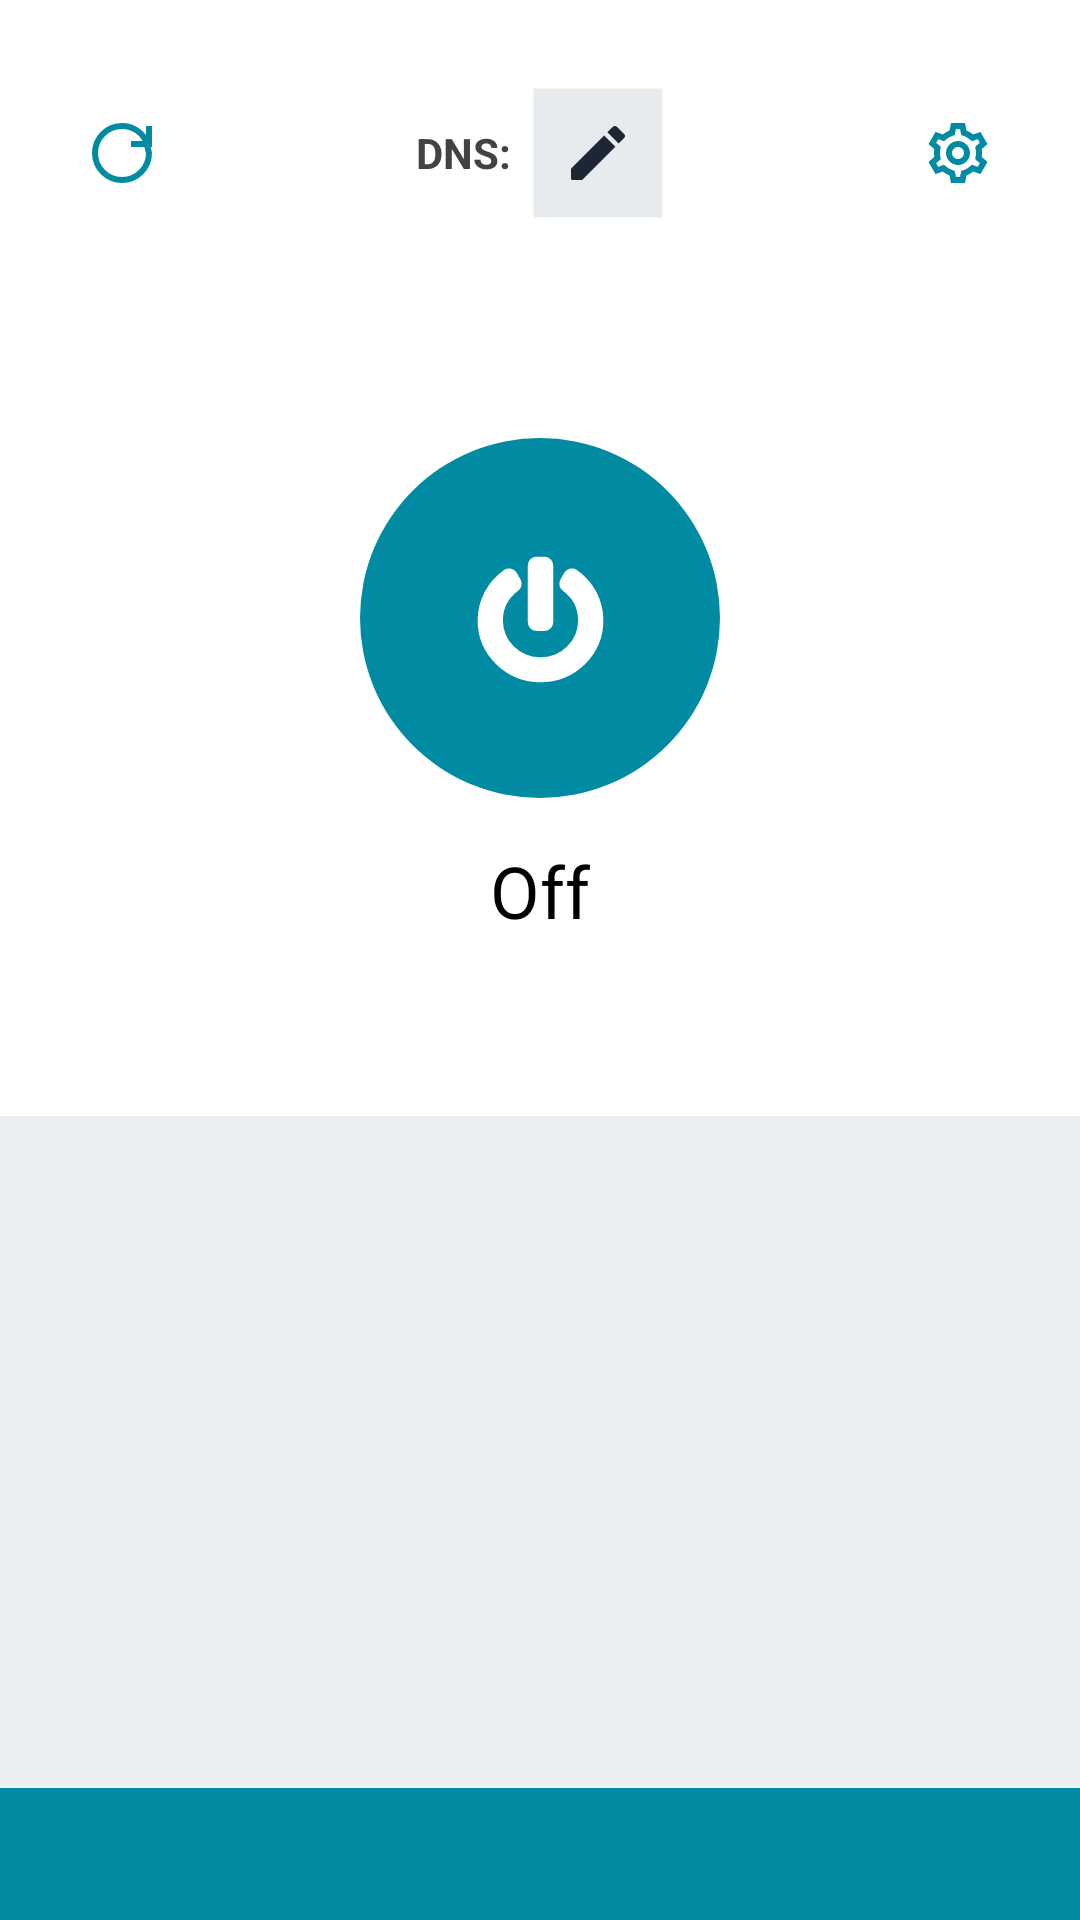

Where icons sit on this 1080px x 1920px app screen, as (x1, y1, x2, y2):
power: (360, 438, 720, 798)
reset: (92, 123, 152, 183)
settings: (928, 123, 988, 183)
